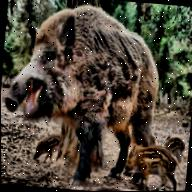boar: (0, 0, 172, 190), (122, 136, 183, 191)
